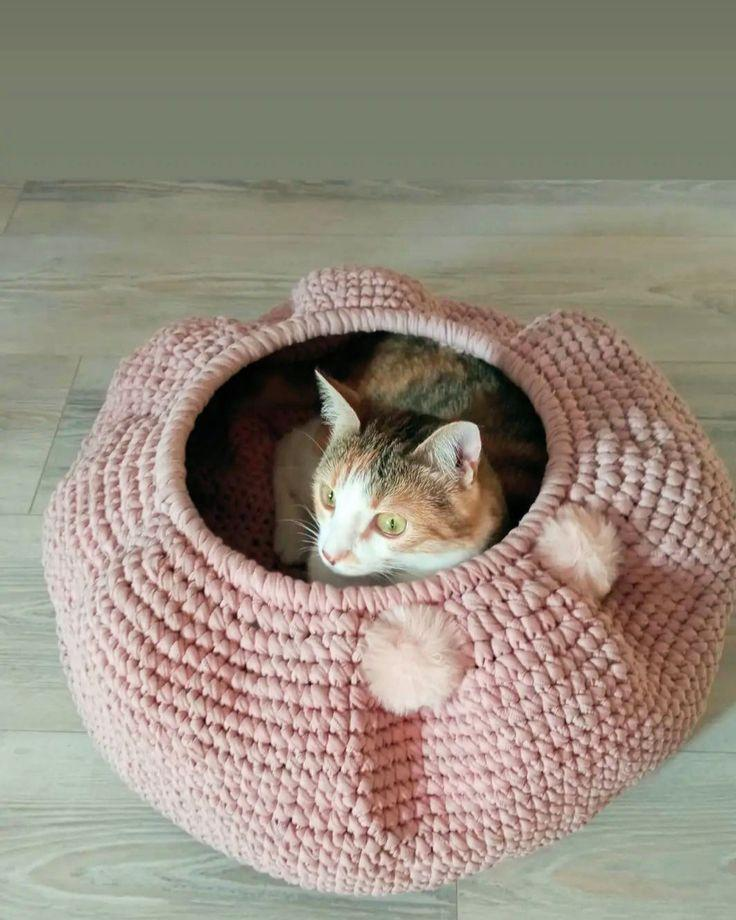kedo: (308, 364, 491, 580)
